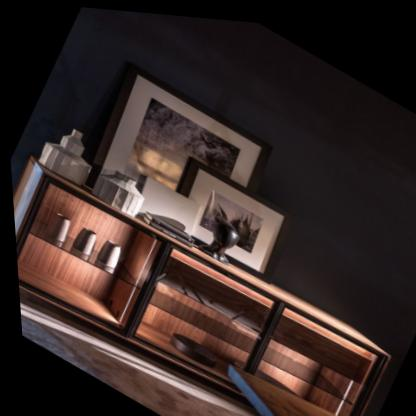Cupboard: (10, 157, 384, 415)
